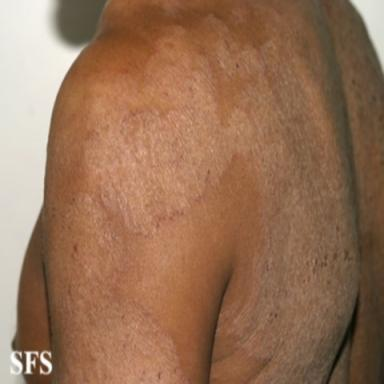Tinea-Corporis: (46, 0, 384, 384)
